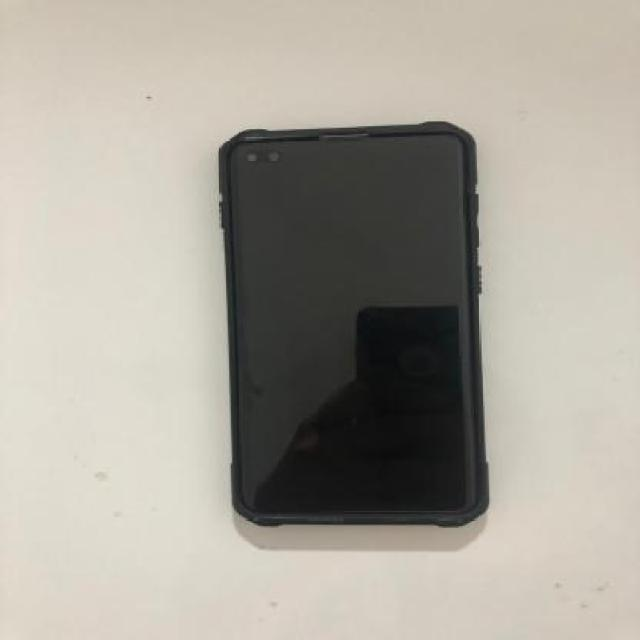mobile: (226, 120, 494, 528)
